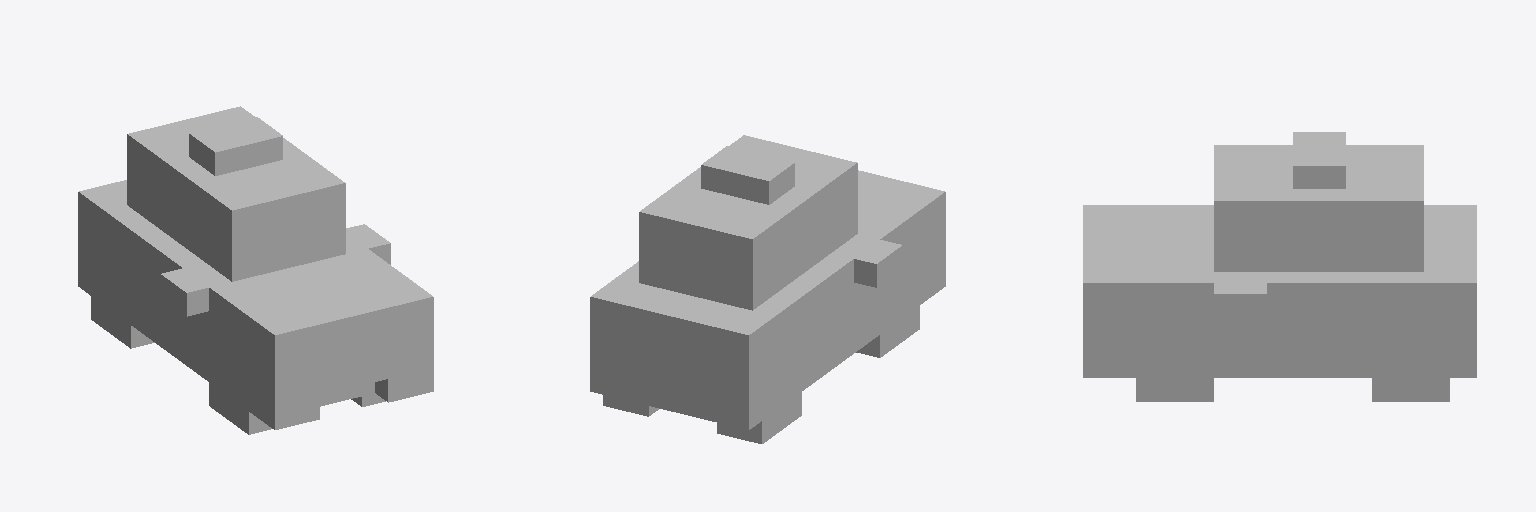
3 renders of one model, left to right at view 1: azimuth 30°, elevation 25°; view 2: azimuth 150°, elevation 25°; view 3: azimuth 270°, elevation 25°, orthographic.
Visible parts, largest first — view 1: Ride_share; view 2: Ride_share; view 3: Ride_share.
Boxes of the visible parts, x1=… form: Ride_share: x1=78, y1=106, x2=433, y2=434; Ride_share: x1=590, y1=135, x2=945, y2=443; Ride_share: x1=1083, y1=132, x2=1476, y2=401.
Bounding box in the file's own units: 1.08 × 1.08 × 1.8.